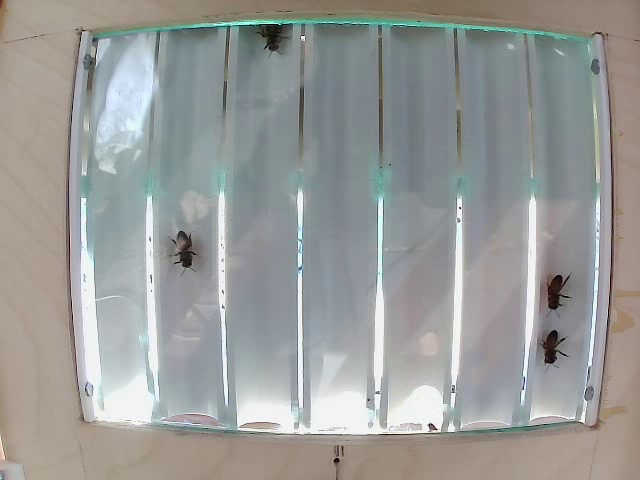bee: (250, 32, 290, 71), (164, 234, 195, 267), (548, 280, 568, 320), (539, 330, 558, 352)
